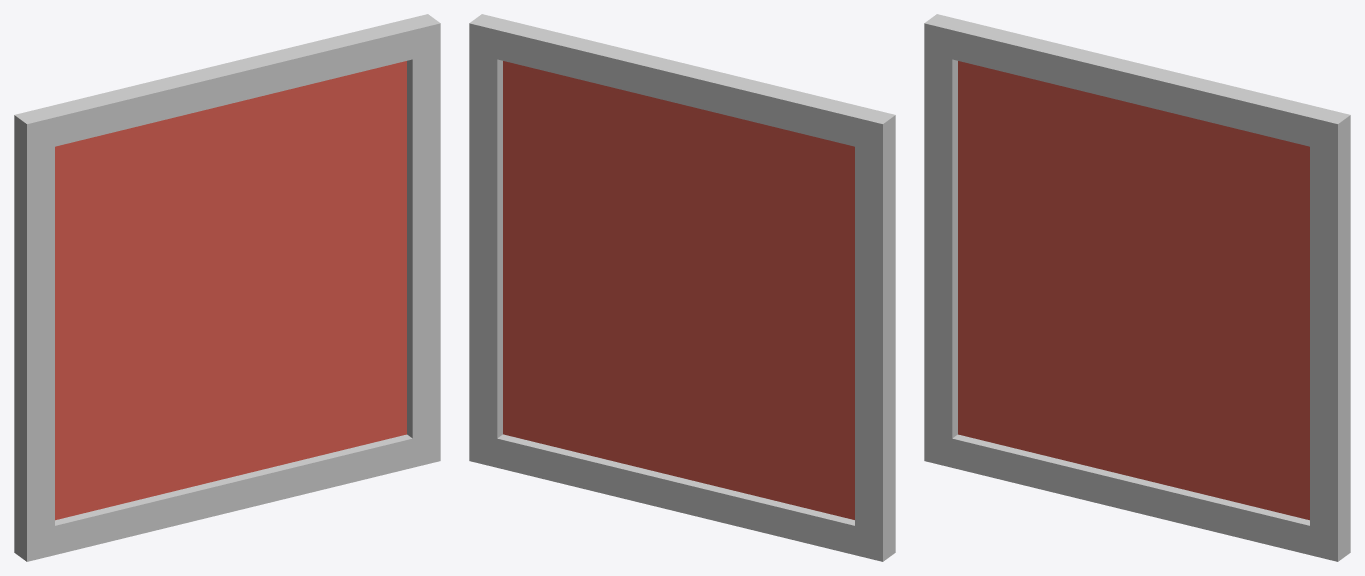
Rendered from Mesh_WindowSmall_01.fbx.
3 views of the same model, side by side, from view 1: azimuth 30°, elevation 25°; view 2: azimuth 150°, elevation 25°; view 3: azimuth 330°, elevation 25° (orthographic).
Visible parts, largest first — view 1: Mesh_WindowSmall_01; view 2: Mesh_WindowSmall_01; view 3: Mesh_WindowSmall_01.
Part boxes in pixels (bbox=[...]): Mesh_WindowSmall_01: bbox=[14, 14, 440, 561]; Mesh_WindowSmall_01: bbox=[469, 14, 895, 561]; Mesh_WindowSmall_01: bbox=[924, 14, 1350, 561].
Size of the model in its own units: 0.8383 by 0.8476 by 0.0447.
